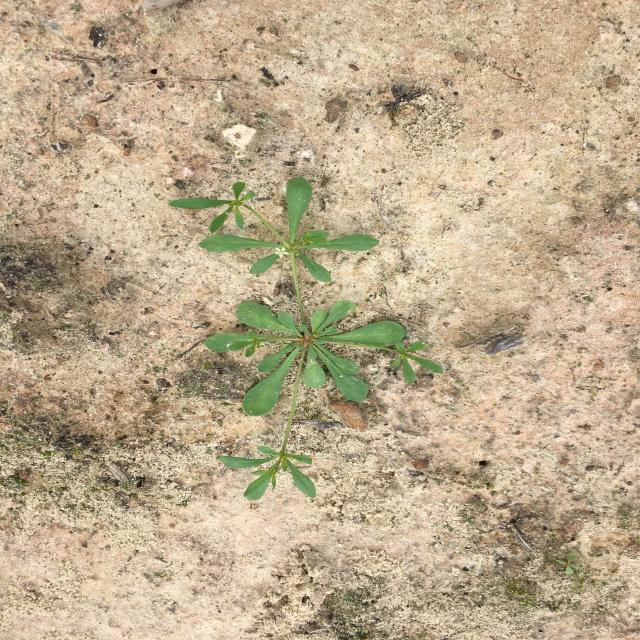Carpetweed: (168, 178, 444, 500)
